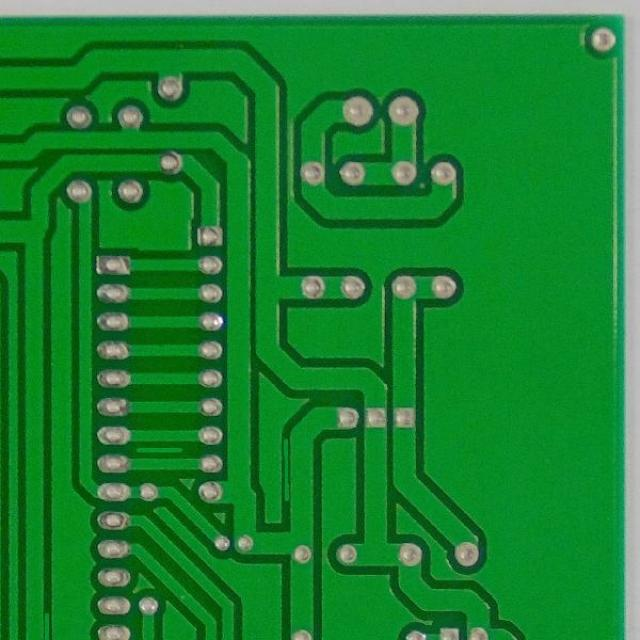spurious_copper: (275, 435, 298, 508), (134, 442, 187, 460), (36, 609, 59, 639)
